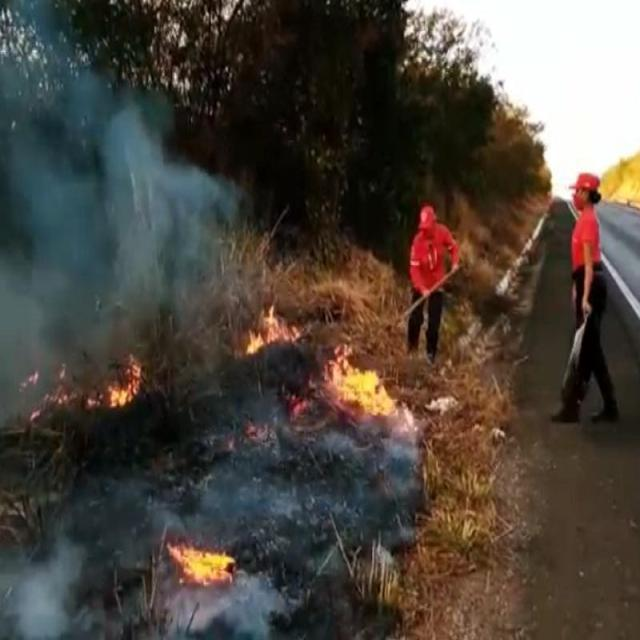Fire: (330, 348, 393, 416), (164, 541, 233, 583), (247, 310, 285, 358), (107, 364, 145, 407)
